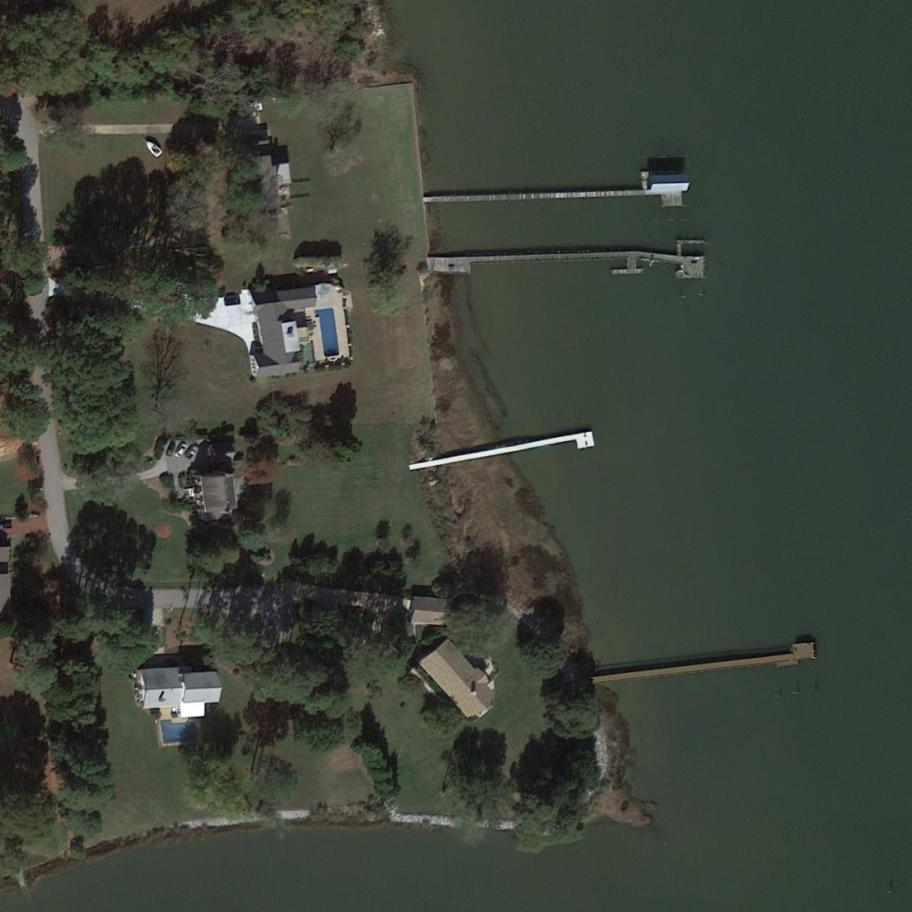ship: (142, 136, 166, 161)
small-vehicle: (183, 443, 201, 462), (174, 442, 190, 460), (165, 439, 177, 457)
